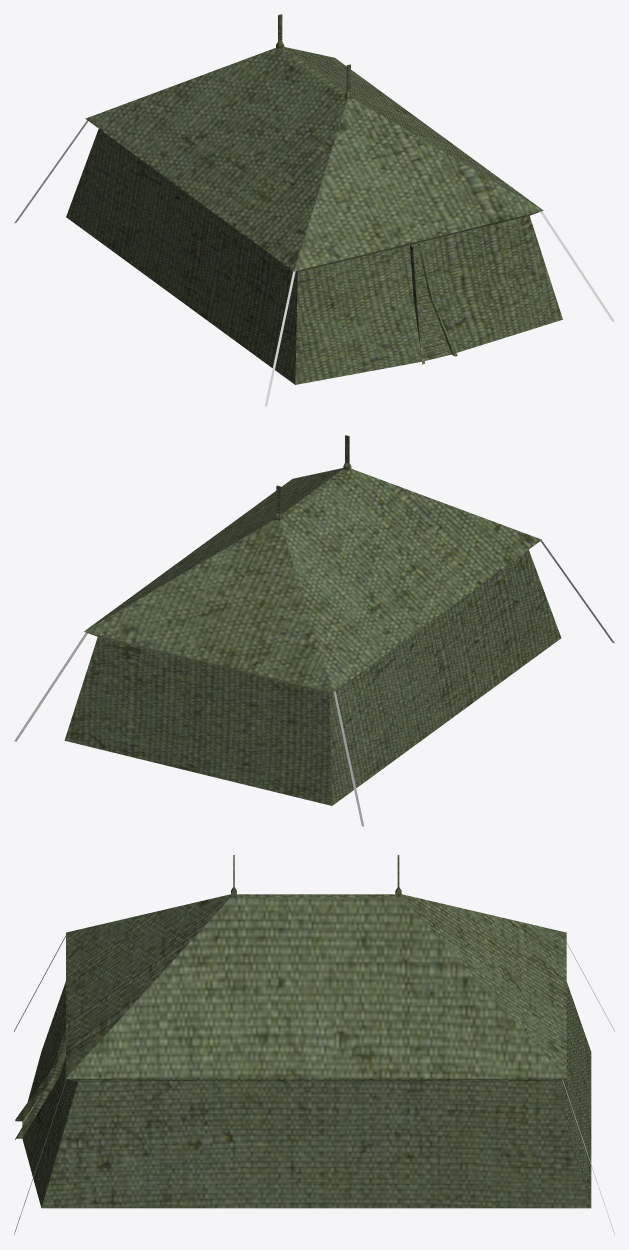
The model's file is Tent.FBX.
3 renders of one model, top to bottom at view 1: azimuth 30°, elevation 25°; view 2: azimuth 150°, elevation 25°; view 3: azimuth 270°, elevation 25°, orthographic. The views are drawn at different scales.
Visible parts, largest first — view 1: Box246; view 2: Box246; view 3: Box246.
Boxes of the visible parts, bbox=[...] form: Box246: bbox=[66, 14, 562, 384]; Box246: bbox=[64, 435, 561, 805]; Box246: bbox=[15, 855, 591, 1208].
Bounding box in the file's own units: 128 × 81.02 × 159.
